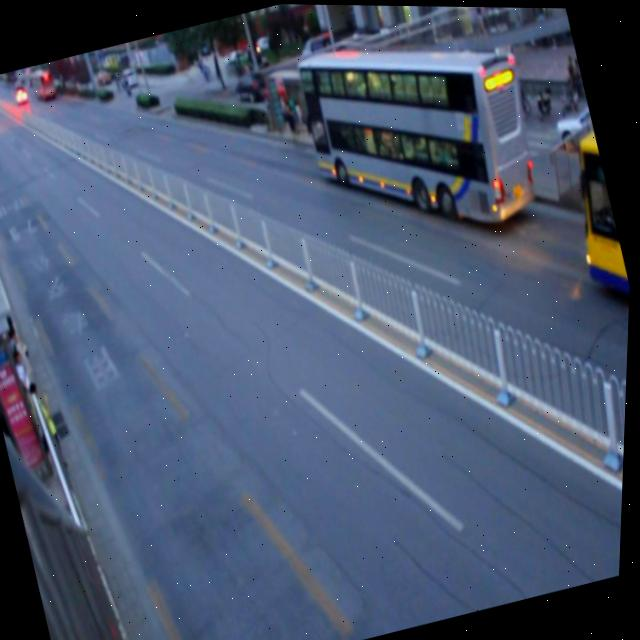van: (286, 5, 553, 264), (552, 131, 636, 308)
